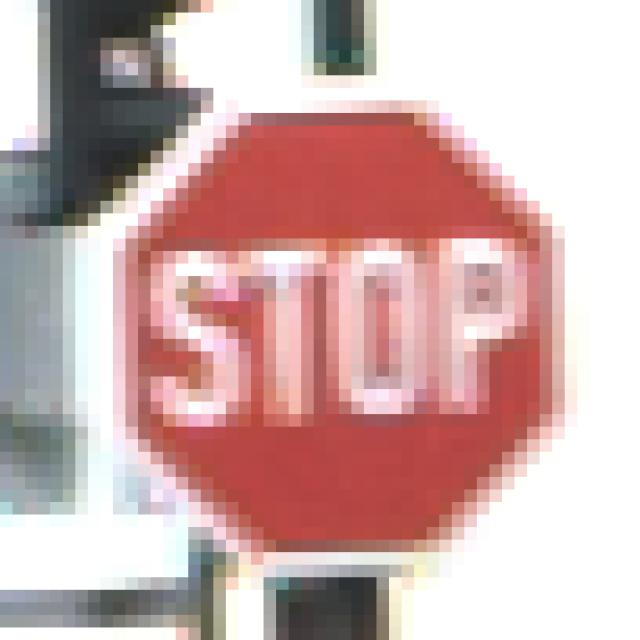STOP: (77, 77, 579, 579)
